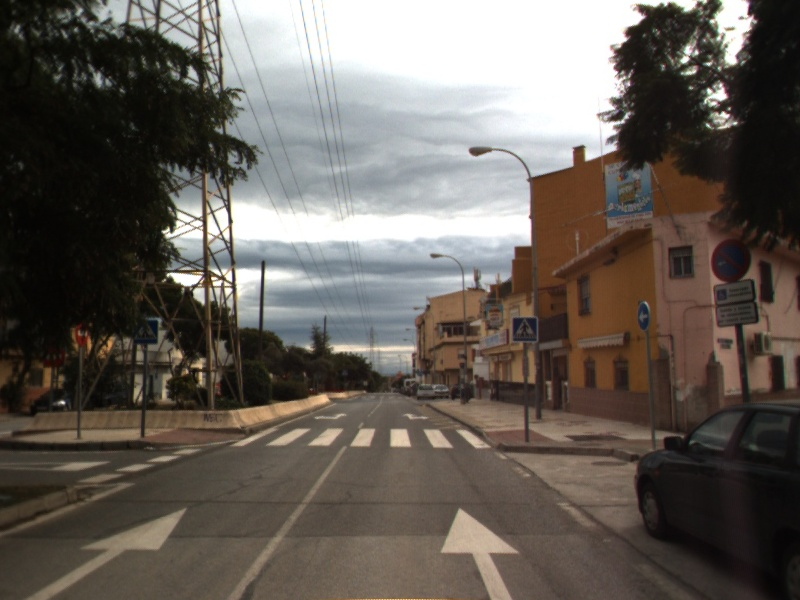STRAIGHT: (19, 505, 189, 600), (438, 504, 523, 600)
STRAIGHT_LEFT: (312, 411, 350, 421)
STRAIGHT_RIGHT: (399, 411, 432, 422)
